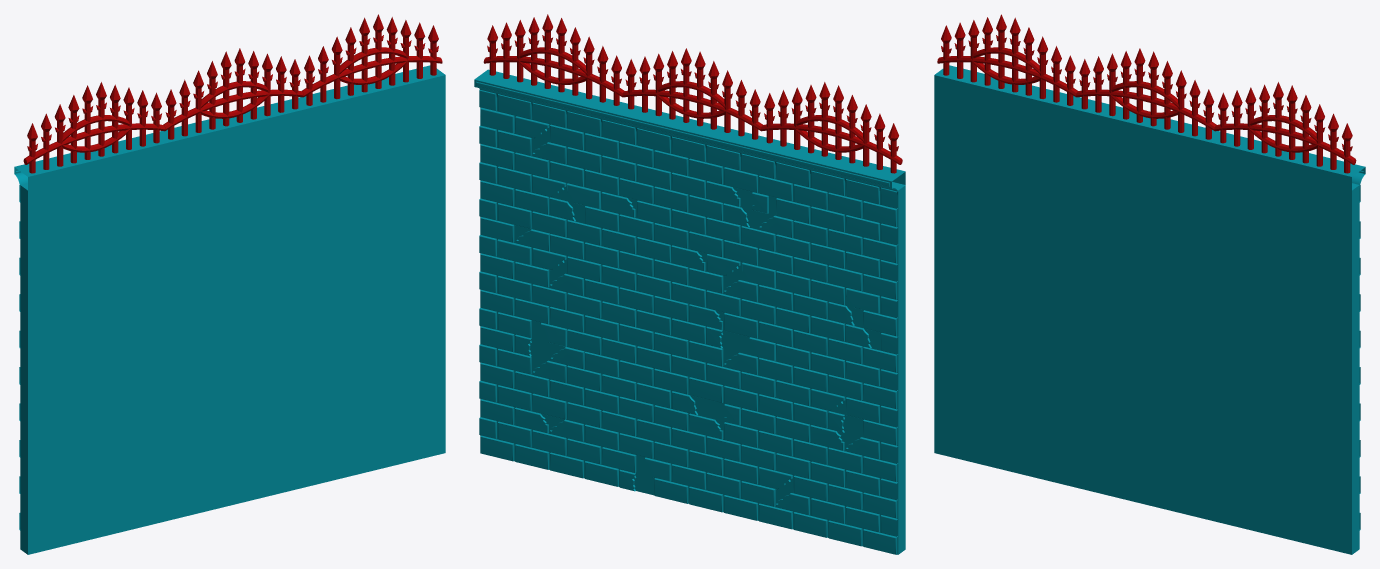
The model's file is Wall2.fbx.
3 views of the same model, side by side, from view 1: azimuth 30°, elevation 25°; view 2: azimuth 150°, elevation 25°; view 3: azimuth 330°, elevation 25° (orthographic).
Visible parts, largest first — view 1: pCube1, pCube16, pCylinder42 (×3); view 2: pCube1, pCube11 (×19), pCube7 (×19), pCube5 (×19), pCube6 (×18), pCube13 (×17), pCube12 (×16), pCube8 (×16), pCube10 (×15), pCube3 (×15), pCube16, pCube9 (×13) (+32 smaller); view 3: pCube1, pCube16, pCylinder42 (×3).
Boxes of the visible parts, x1=… form: pCube1: x1=20, y1=93, x2=445, y2=554; pCube16: x1=14, y1=65, x2=445, y2=194; pCylinder42 (×3): x1=23, y1=56, x2=442, y2=164; pCube1: x1=480, y1=97, x2=905, y2=554; pCube11 (×19): x1=776, y1=162, x2=827, y2=537; pCube7 (×19): x1=637, y1=128, x2=688, y2=503; pCube5 (×19): x1=567, y1=111, x2=618, y2=486; pCube6 (×18): x1=602, y1=119, x2=653, y2=472; pCube13 (×17): x1=846, y1=179, x2=897, y2=554; pCube12 (×16): x1=811, y1=170, x2=862, y2=546; pCube8 (×16): x1=672, y1=136, x2=723, y2=512; pCube10 (×15): x1=741, y1=153, x2=792, y2=529; pCube3 (×15): x1=498, y1=94, x2=549, y2=469; pCube16: x1=474, y1=69, x2=905, y2=195; pCube9 (×13): x1=706, y1=145, x2=757, y2=520; pCube1: x1=934, y1=93, x2=1359, y2=554; pCube16: x1=934, y1=65, x2=1365, y2=194; pCylinder42 (×3): x1=937, y1=56, x2=1356, y2=164.
Bounding box in the file's own units: 240 × 248 × 14.15.
